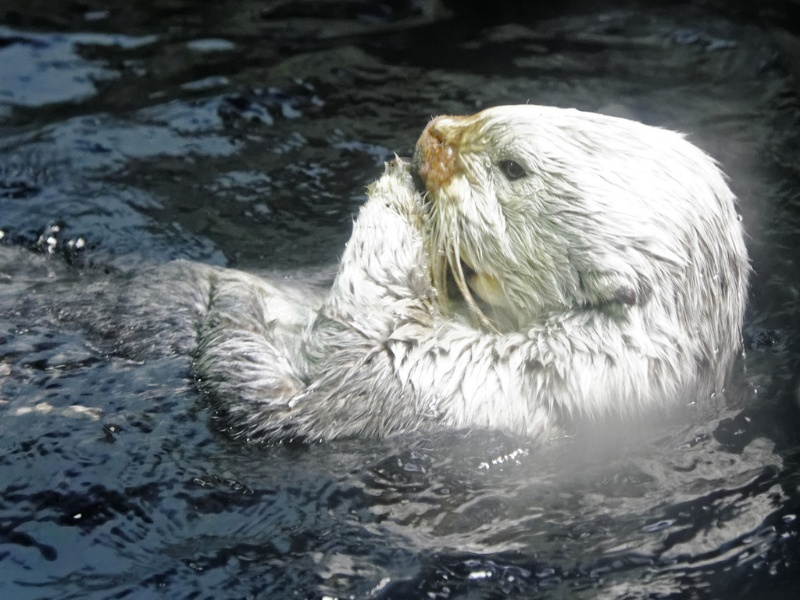minkish: (53, 103, 758, 453)
